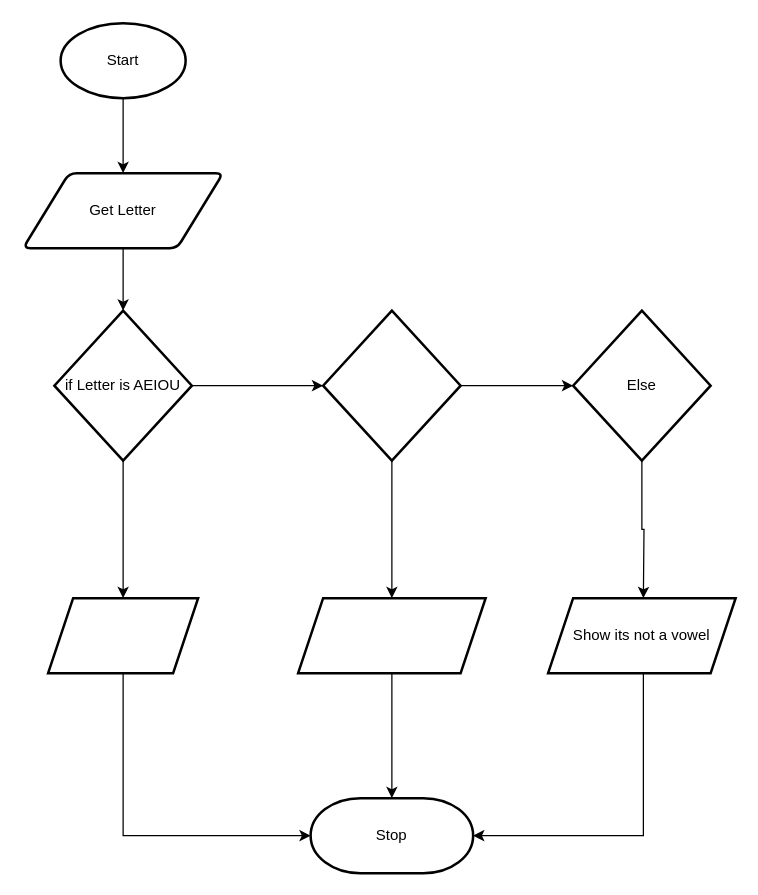
The diagram is 758 pixels wide and 895 high, and some of its shapes have lost their labels. The shapes that lost their labels are listed below. From the top down, each one's centre as x and y in pixels, then its label:
At point 391,385: "if Letter is Y".
At point 122,635: "Show its a vowel".
At point 391,635: "Show its sometimes a vowel".
